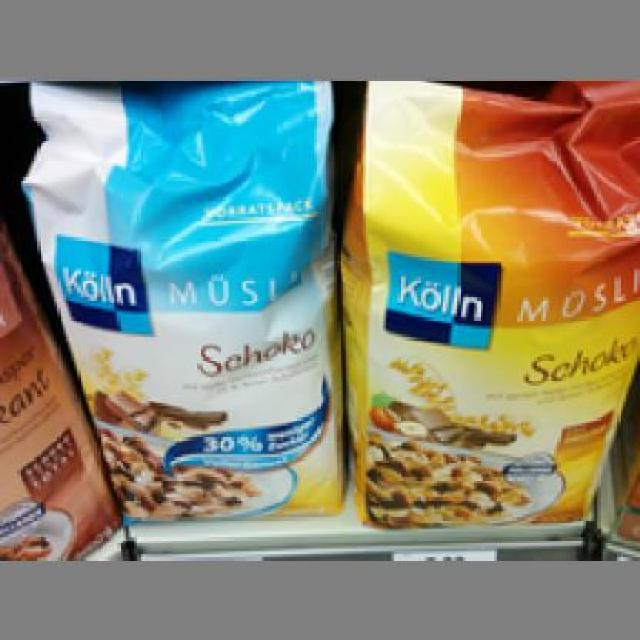Cereal: (343, 117, 637, 526), (51, 96, 332, 512)
